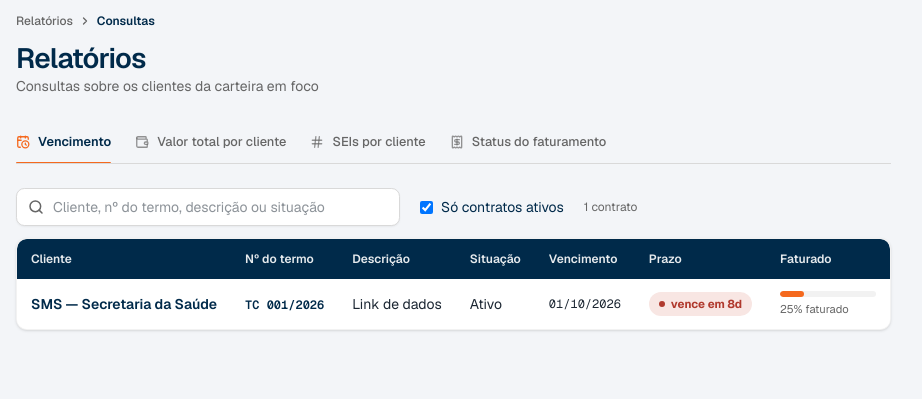
Test: RelatoriosPage › abre em Vencimento mostrando só os contratos ativos, com opção de ver todos
Expected: the heading "Relatórios" is shown, x1=16 y1=40 x2=146 y2=76
Expected: the link "TC 001/2026" is shown, x1=245 y1=297 x2=324 y2=313
Click the checkbox labelled "Só contratos ativos" at x=426, y=207, box x1=420 y1=201 x2=433 y2=214
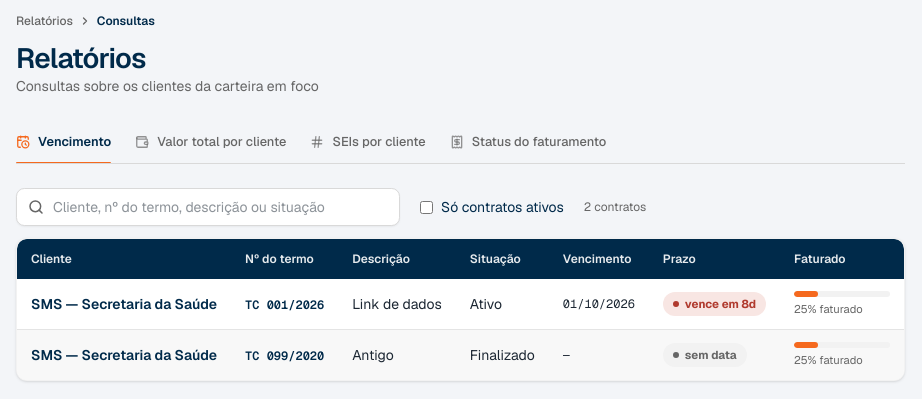
Expected: the link "TC 099/2020" is shown, x1=245 y1=348 x2=324 y2=364
